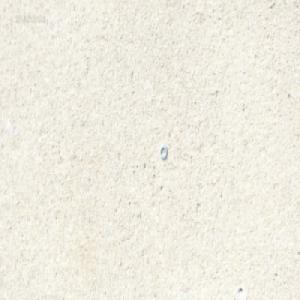Washer: (159, 145, 167, 160)
